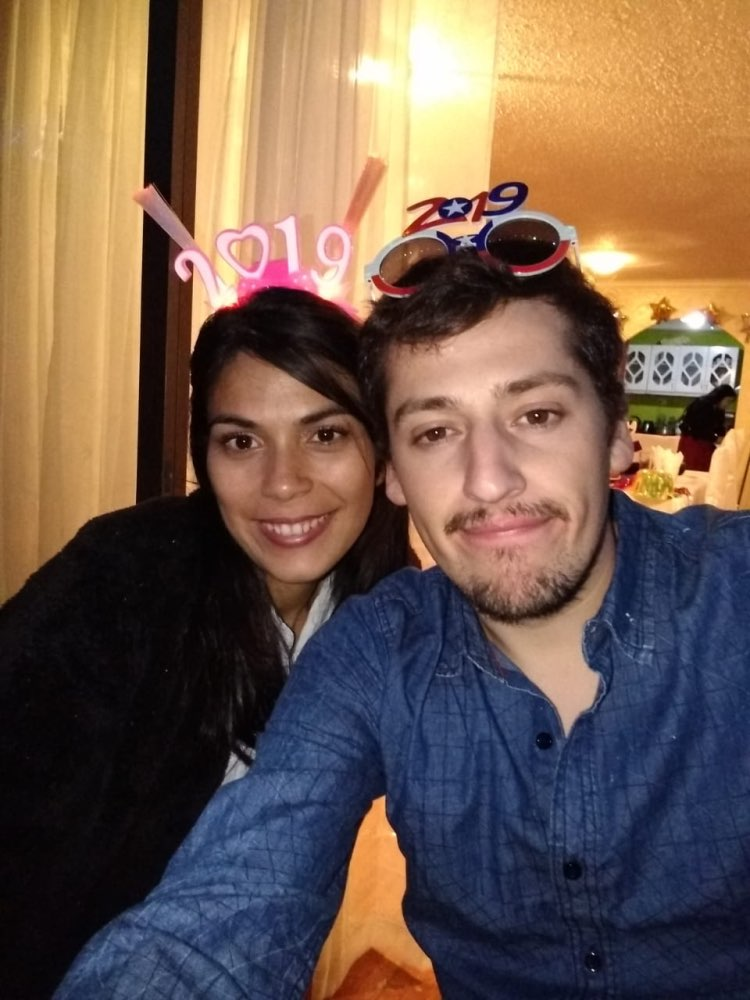shirts: (120, 514, 750, 997)
